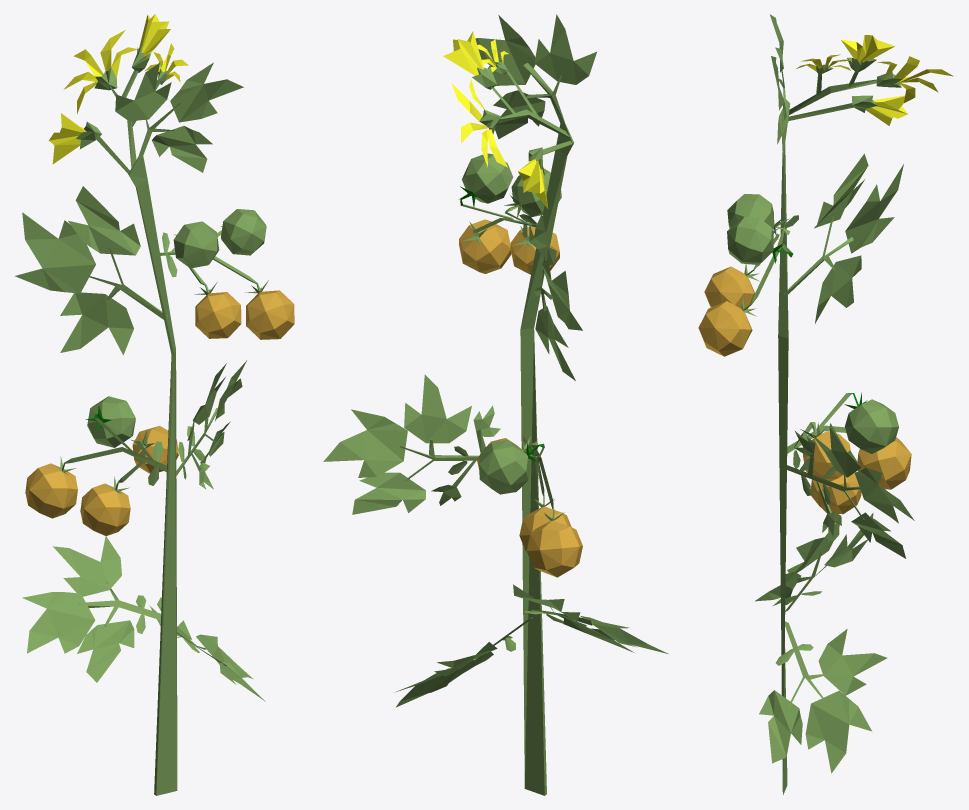
File: Tomatos_5.fbx
3 views of the same model, side by side, from view 1: azimuth 30°, elevation 25°; view 2: azimuth 150°, elevation 25°; view 3: azimuth 270°, elevation 25° (orthographic). The views are drawn at different scales.
Parts seen in each view (by area): view 1: Tomato_5; view 2: Tomato_5; view 3: Tomato_5.
Part boxes in pixels (<box>): Tomato_5: <box>15,14,294,795</box>; Tomato_5: <box>323,14,668,795</box>; Tomato_5: <box>698,14,953,794</box>.
Size of the model in its own units: 59.14 by 153 by 46.14.
